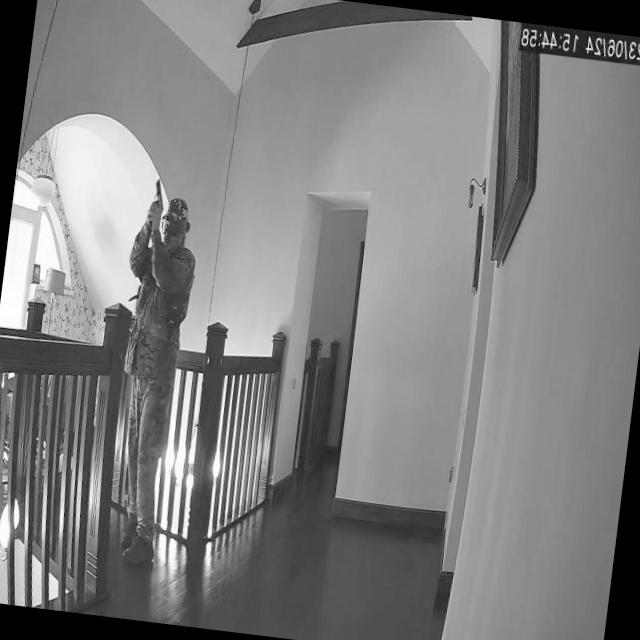gun: (147, 176, 167, 218)
person with a gun: (105, 187, 202, 576)
